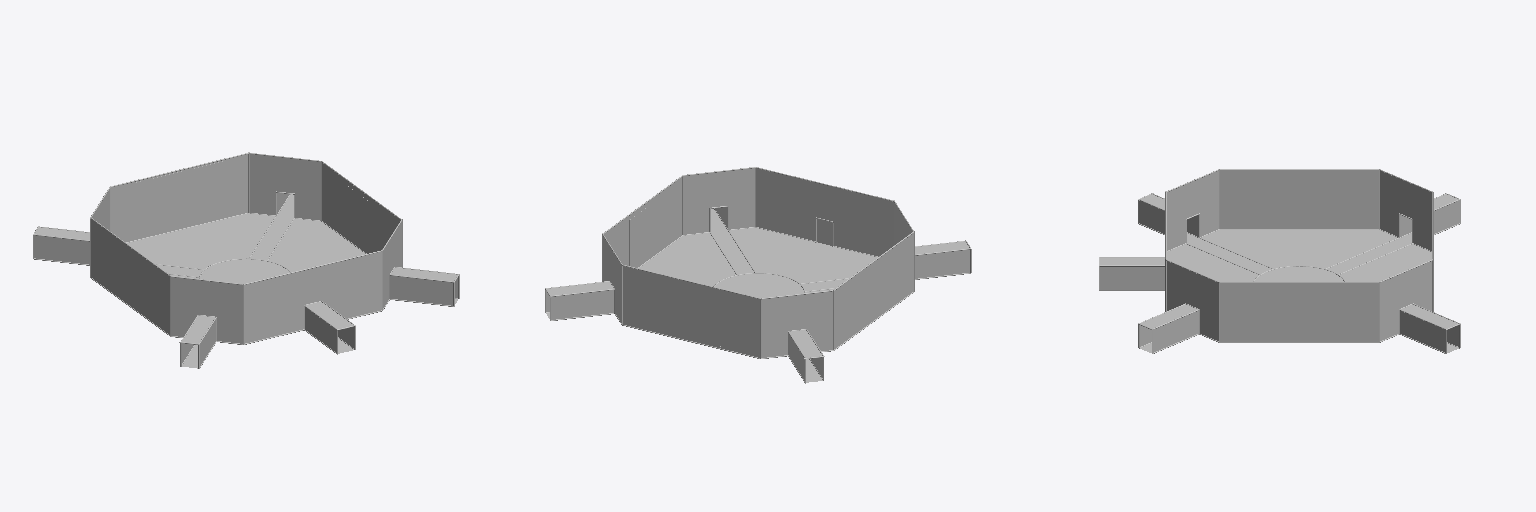
The model's file is TextExpo1.obj.
The picture shows the model from 3 angles: view 1: azimuth 30°, elevation 25°; view 2: azimuth 150°, elevation 25°; view 3: azimuth 270°, elevation 25°; orthographic projection.
Parts seen in each view (by area): view 1: Plane.007; view 2: Plane.007; view 3: Plane.007.
Part boxes in pixels (x1,y1,x2,y2): Plane.007: (33,152,459,368); Plane.007: (545,167,971,383); Plane.007: (1099,169,1460,353).
Size of the model in its own units: 24.27 by 5.05 by 27.19.